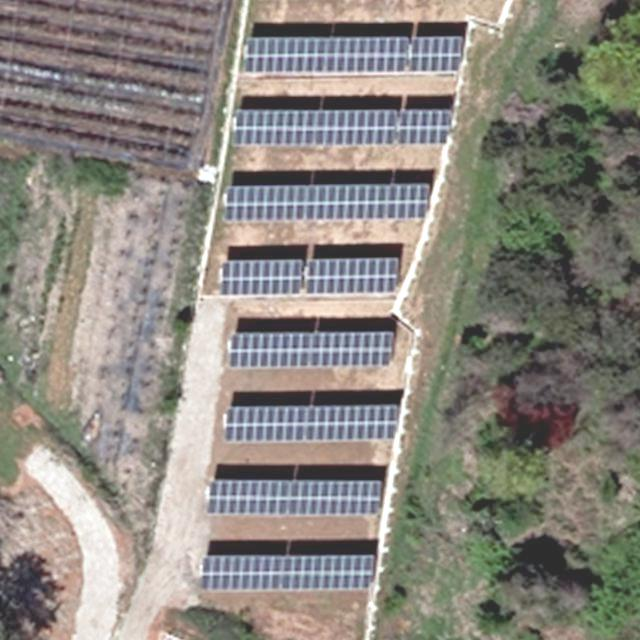solar: (225, 179, 430, 222), (206, 475, 385, 519), (226, 326, 392, 372), (221, 404, 402, 445), (199, 553, 380, 592), (242, 34, 410, 75), (233, 106, 398, 147), (308, 253, 401, 295), (220, 256, 306, 297), (397, 106, 455, 149), (409, 35, 467, 72)
